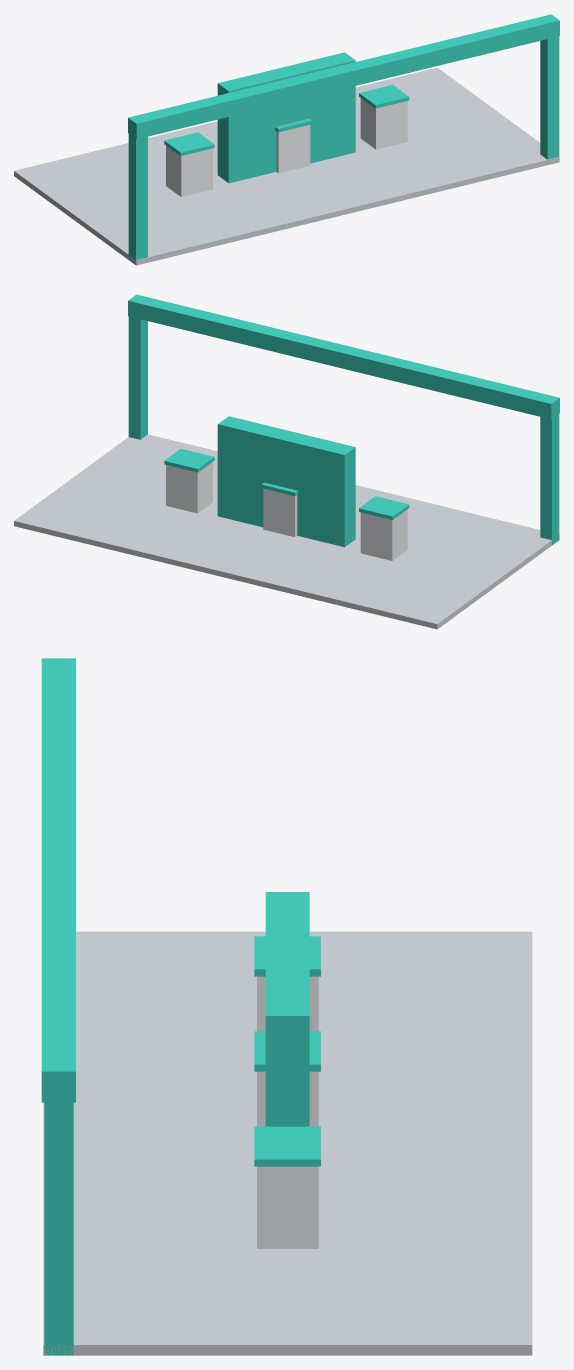
The picture shows the model from 3 angles, top to bottom: view 1: azimuth 30°, elevation 25°; view 2: azimuth 150°, elevation 25°; view 3: azimuth 270°, elevation 25°; orthographic projection. The views are drawn at different scales.
Parts seen in each view (by area): view 1: Exhibition Booth Concept; view 2: Exhibition Booth Concept; view 3: Exhibition Booth Concept.
Part boxes in pixels (bbox=[...]): Exhibition Booth Concept: bbox=[14, 14, 559, 265]; Exhibition Booth Concept: bbox=[14, 294, 559, 629]; Exhibition Booth Concept: bbox=[41, 658, 532, 1355].
Bounding box in the file's own units: 10 × 3.2 × 5.02.
